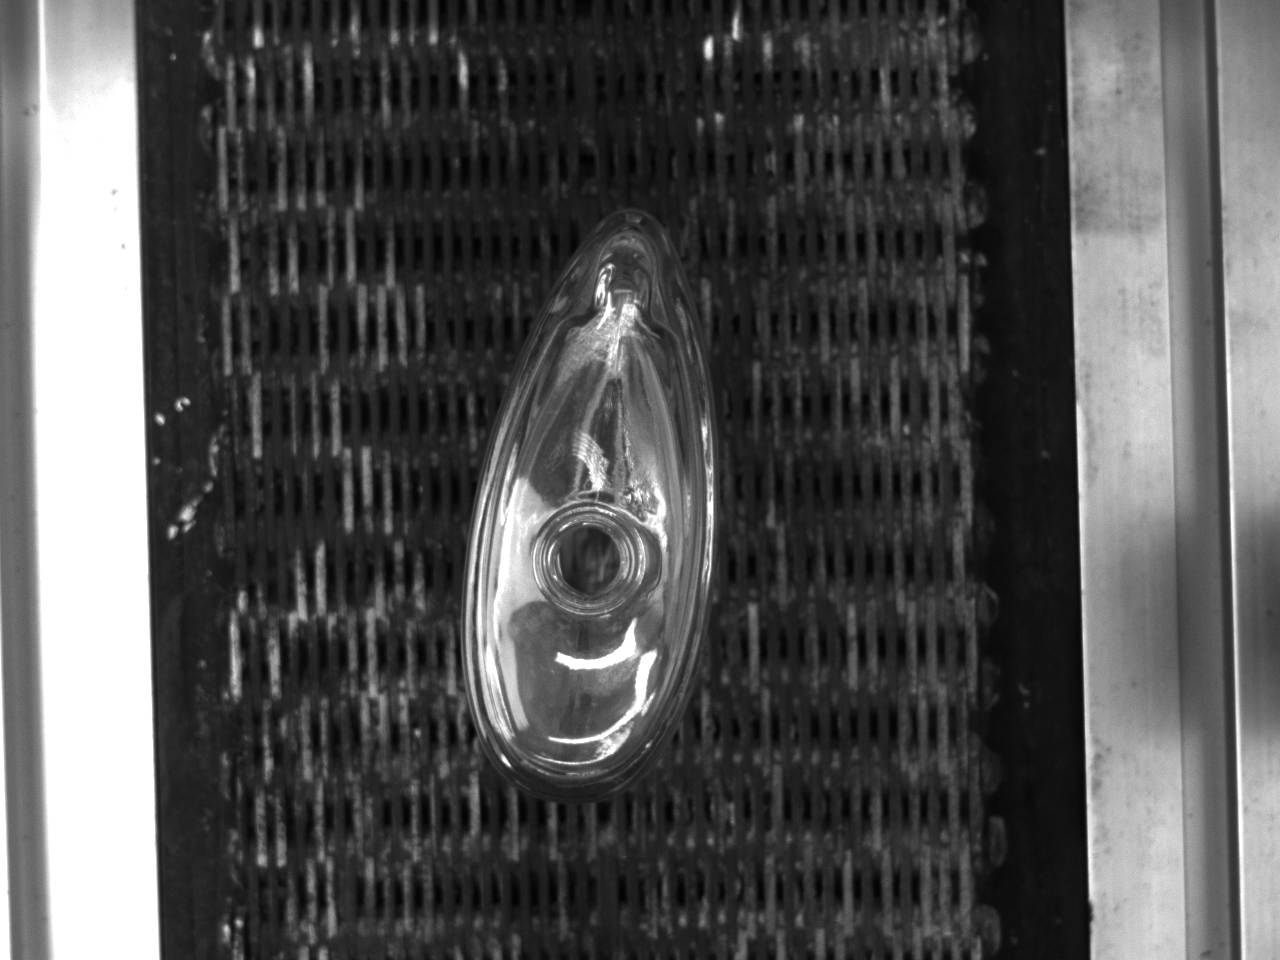bottleneck: (530, 503, 647, 616)
